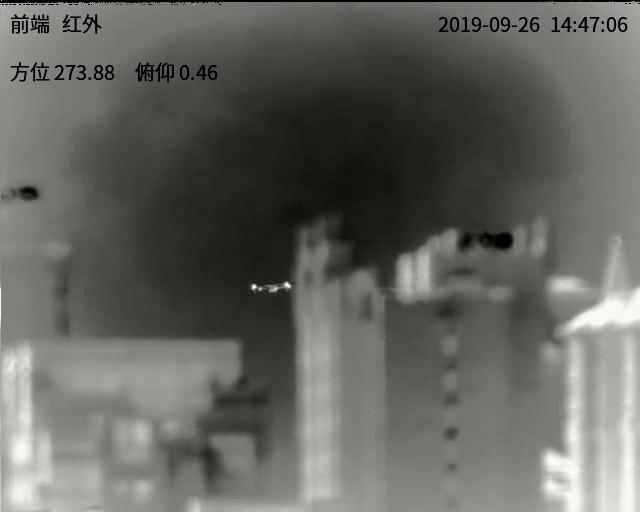DRONE: (249, 279, 292, 294)
